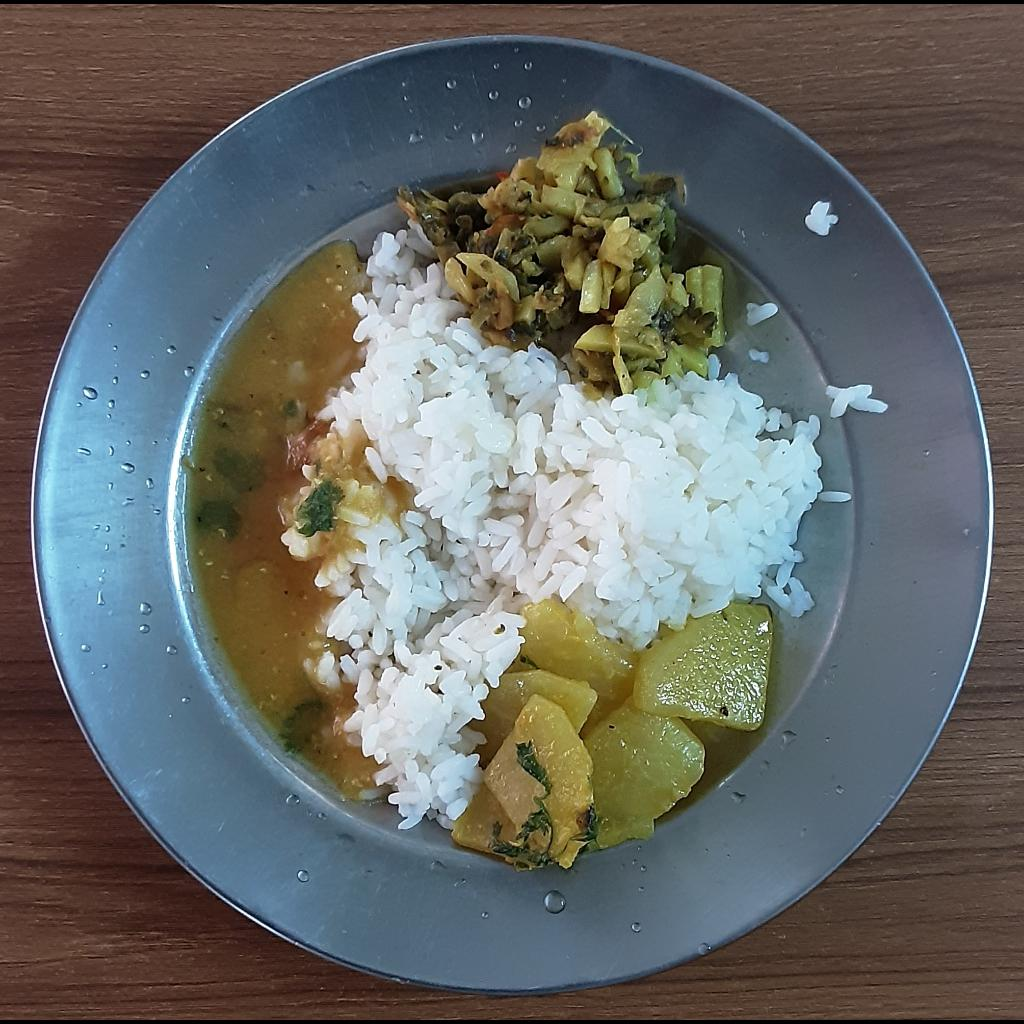daal: (182, 229, 374, 803)
dundol: (455, 599, 775, 868)
korola-vaji: (394, 108, 727, 393)
rice: (283, 221, 849, 830)
